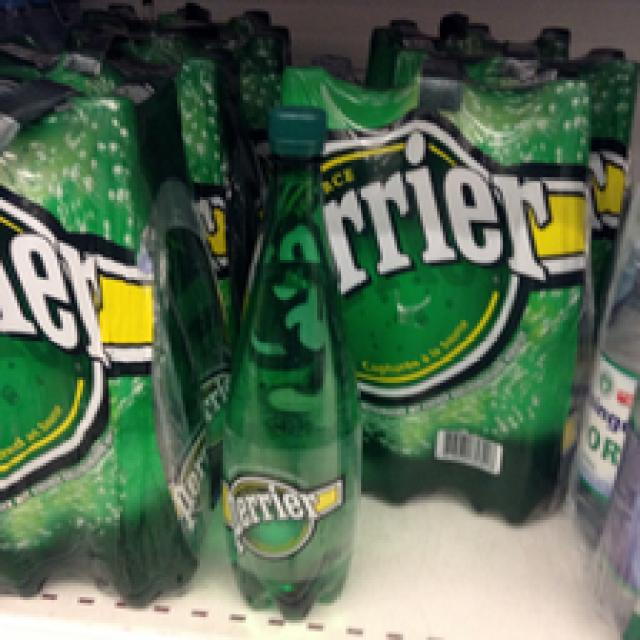groceries: (223, 105, 357, 626)
